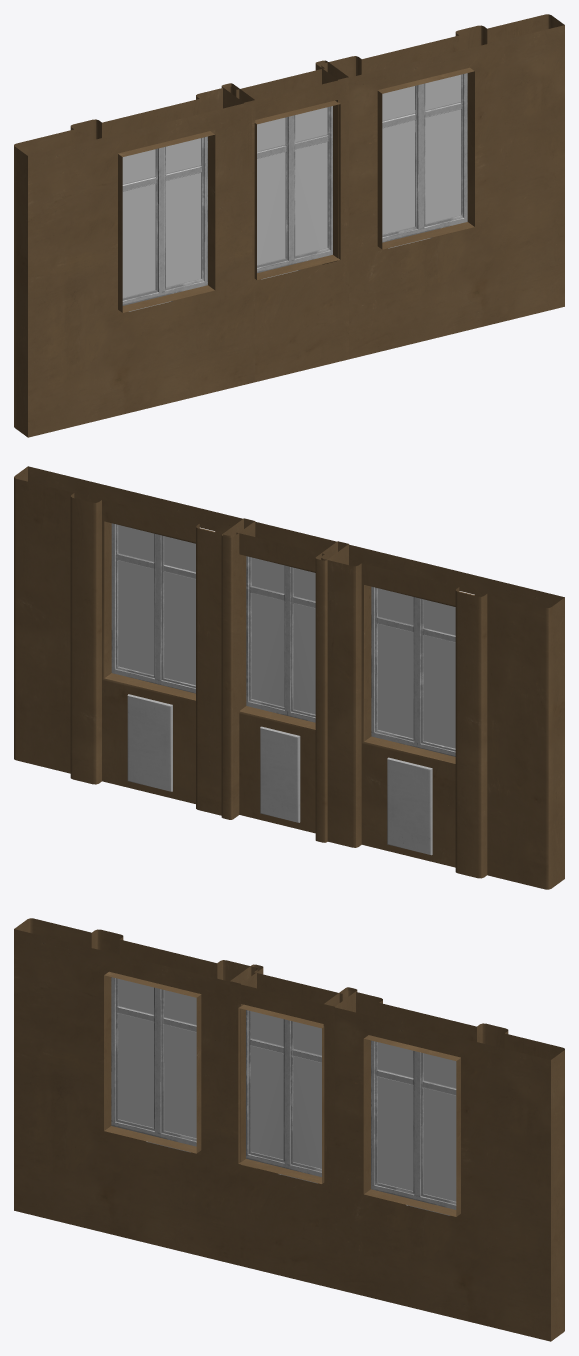
File: SM_Building04_WallR.fbx
The picture shows the model from 3 angles, top to bottom: view 1: azimuth 30°, elevation 25°; view 2: azimuth 150°, elevation 25°; view 3: azimuth 330°, elevation 25°; orthographic projection.
Visible parts, largest first — view 1: SM_Building04_WallR_LOD0; view 2: SM_Building04_WallR_LOD0; view 3: SM_Building04_WallR_LOD0.
Part boxes in pixels (left/top/right/bottom): SM_Building04_WallR_LOD0: left=14, top=14, right=564, bottom=437; SM_Building04_WallR_LOD0: left=14, top=466, right=564, bottom=889; SM_Building04_WallR_LOD0: left=14, top=918, right=564, bottom=1341.
Bounding box in the file's own units: 600 × 49.71 × 301.
4 materials, 3 textured.
